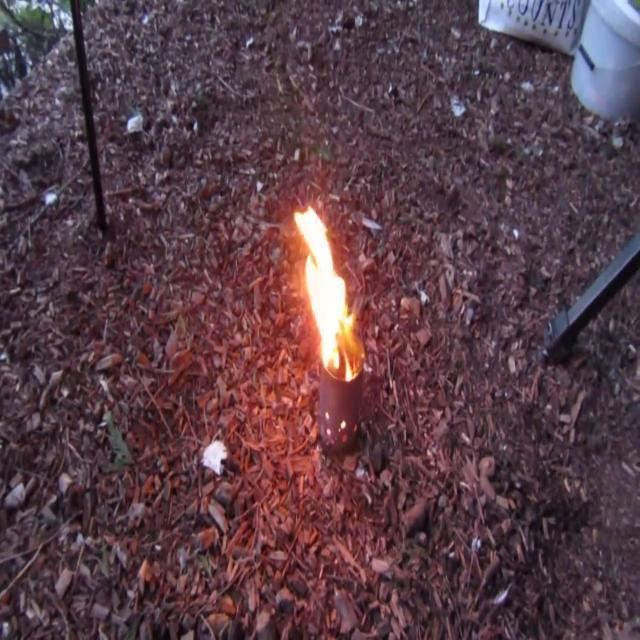Fire: (290, 206, 360, 380)
